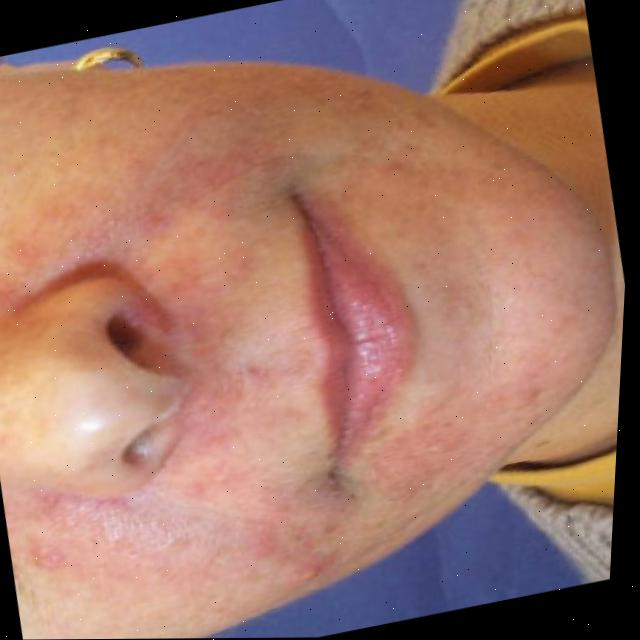Rosacea: (311, 98, 622, 517), (0, 36, 378, 316), (13, 431, 398, 640), (146, 242, 304, 489)
